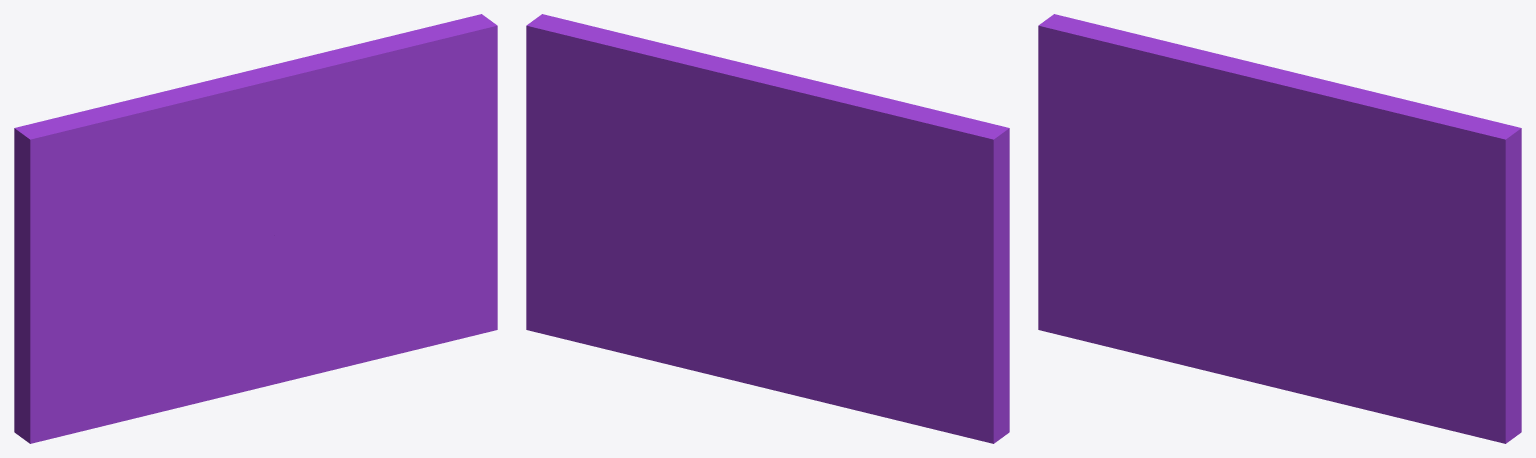
File: Barrier_80_chunks.fbx
3 views of the same model, side by side, from view 1: azimuth 30°, elevation 25°; view 2: azimuth 150°, elevation 25°; view 3: azimuth 330°, elevation 25° (orthographic).
Visible parts, largest first — view 1: Barrier_80_1, Barrier_80_2, Barrier_80_3, Barrier_80_6, Barrier_80_5, Barrier_80_4, Barrier_80_0; view 2: Barrier_80_1, Barrier_80_0, Barrier_80_6, Barrier_80_3, Barrier_80_4, Barrier_80_2; view 3: Barrier_80_1, Barrier_80_2, Barrier_80_3, Barrier_80_6, Barrier_80_5, Barrier_80_4.
Part boxes in pixels (x1,y1,x2,y2): Barrier_80_1: (269, 14, 497, 370); Barrier_80_2: (26, 224, 331, 443); Barrier_80_3: (14, 105, 160, 298); Barrier_80_6: (108, 48, 357, 177); Barrier_80_5: (152, 166, 300, 227); Barrier_80_4: (126, 212, 275, 268); Barrier_80_0: (14, 279, 26, 440); Barrier_80_1: (526, 14, 754, 370); Barrier_80_0: (694, 225, 1006, 443); Barrier_80_6: (667, 48, 908, 196); Barrier_80_3: (862, 103, 1009, 293); Barrier_80_4: (733, 184, 905, 266); Barrier_80_2: (1005, 286, 1009, 434); Barrier_80_1: (1278, 94, 1521, 443); Barrier_80_2: (1038, 184, 1339, 403); Barrier_80_3: (1038, 14, 1169, 201); Barrier_80_6: (1139, 37, 1380, 183); Barrier_80_5: (1160, 127, 1308, 218); Barrier_80_4: (1135, 173, 1283, 227).
Size of the model in its own units: 462 by 288 by 27.2.
